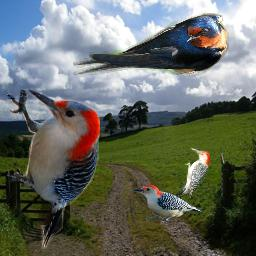Swallow: (73, 13, 229, 75)
Woodpecker: (7, 89, 100, 249), (132, 185, 203, 224), (171, 146, 210, 203)
